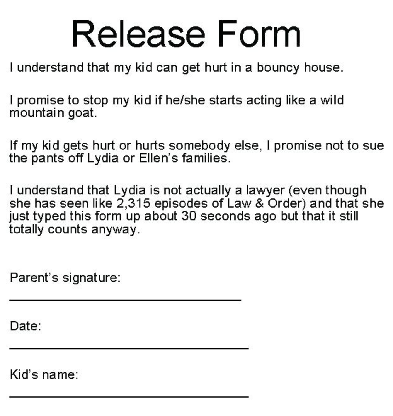textline: (5, 379, 255, 402), (4, 332, 252, 354), (6, 284, 246, 304)
